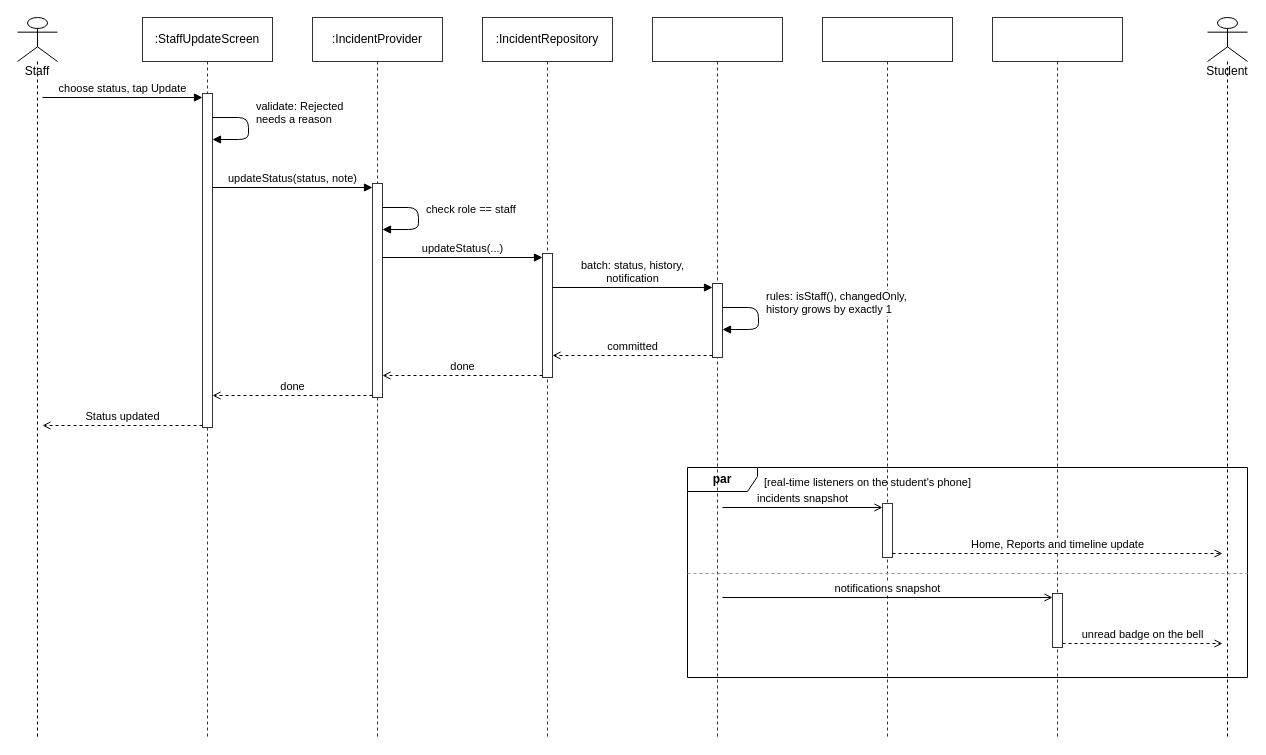
The diagram is 1266 pixels wide and 755 high, and some of its shapes have lost their labels. Each missing label, with the box of its shape:
:CloudFirestore: (652, 16, 782, 738)
student :IncidentProvider: (822, 16, 952, 738)
student :NotificationProvider: (992, 16, 1122, 738)
